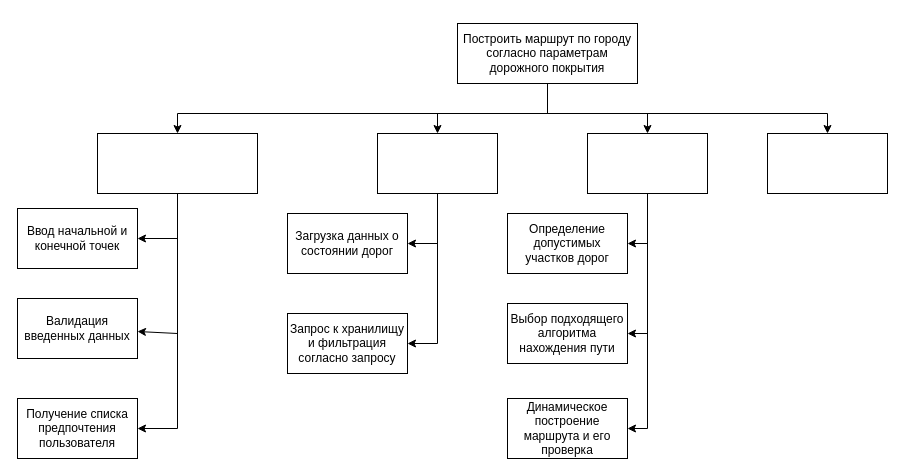
The diagram is 905 pixels wide and 476 high, and some of its shapes have lost their labels. The box of each missing label's shape, as (x1, y1, x2, y2) in pixels:
Визуализация построенного маршрута на карте: (766, 132, 888, 194)
Получение и обработка пользовательских данных: (96, 132, 258, 194)
Построение маршрута с учетом полученных данных: (586, 132, 708, 194)
Сбор информации о состоянии дорожного покрытия: (376, 132, 498, 194)
